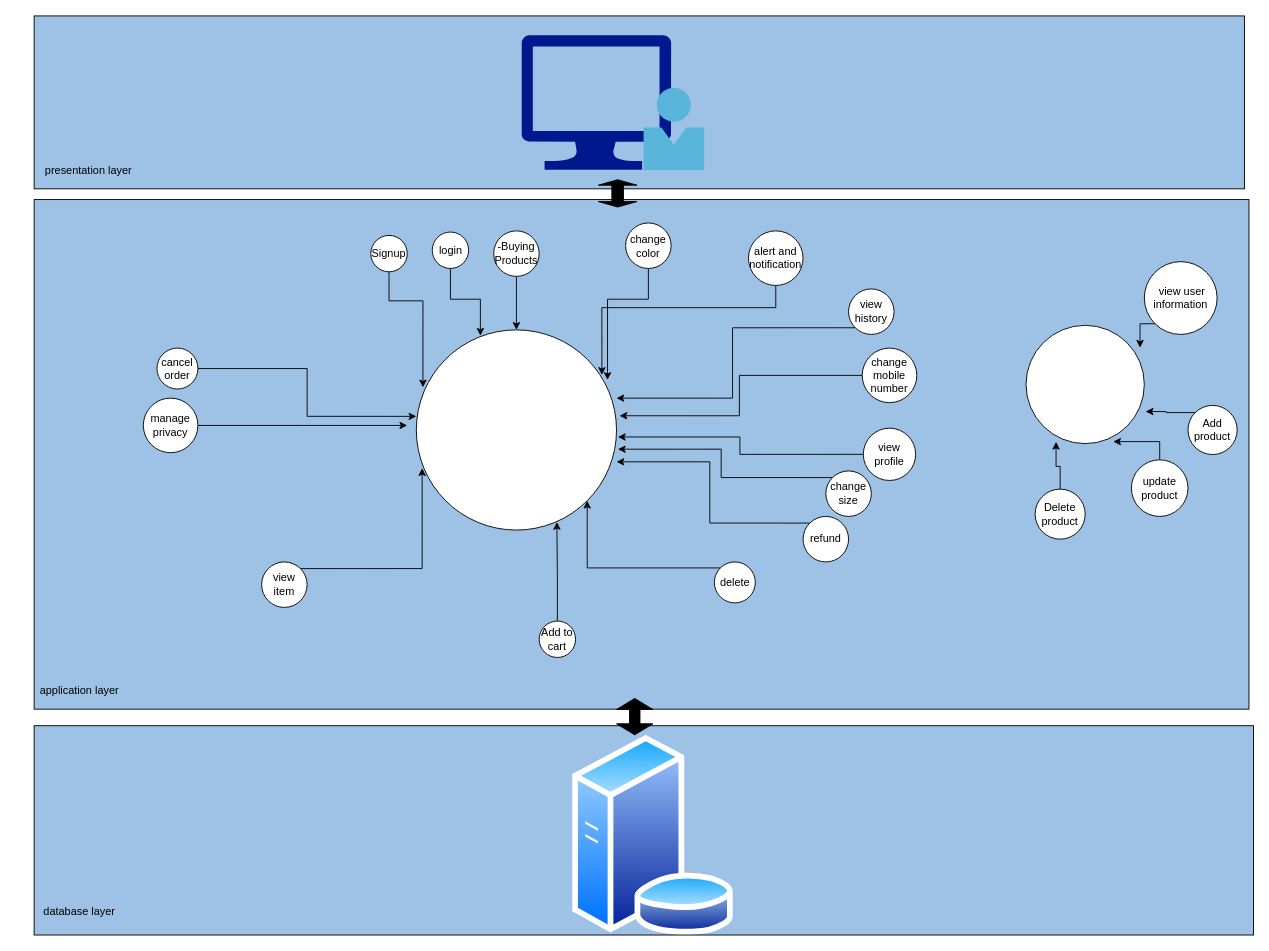
The diagram is 1269 pixels wide and 951 high, and some of its shapes have lost their labels. The shapes that lost their labels are listed below. From the top down, each one's box as (x1, y1, x2, y2) in pixels, then its label:
(1025, 324, 1144, 444): ADMIN
(415, 329, 617, 530): USER
